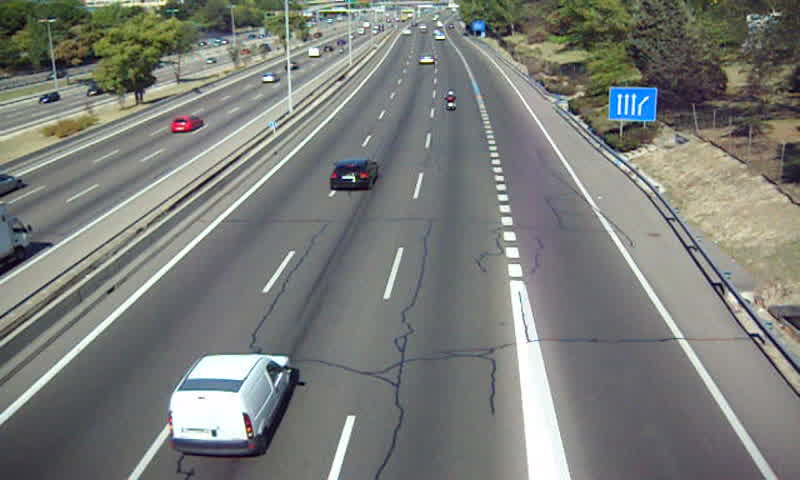car: (329, 159, 378, 189), (418, 55, 435, 67)
motorcycle: (443, 90, 460, 112)
van: (166, 354, 294, 459)
